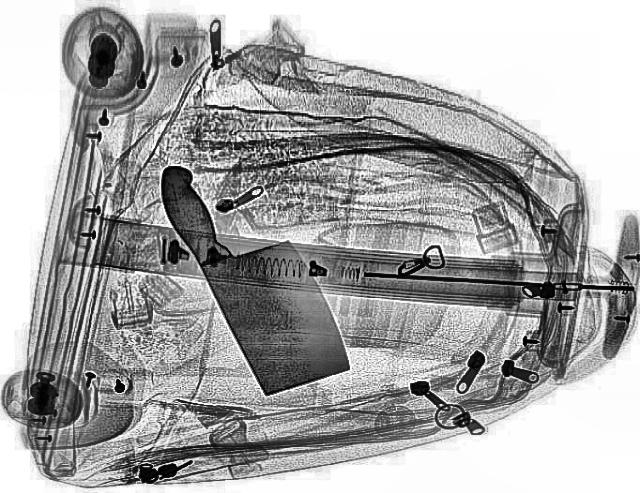Knife: (136, 144, 370, 400)
